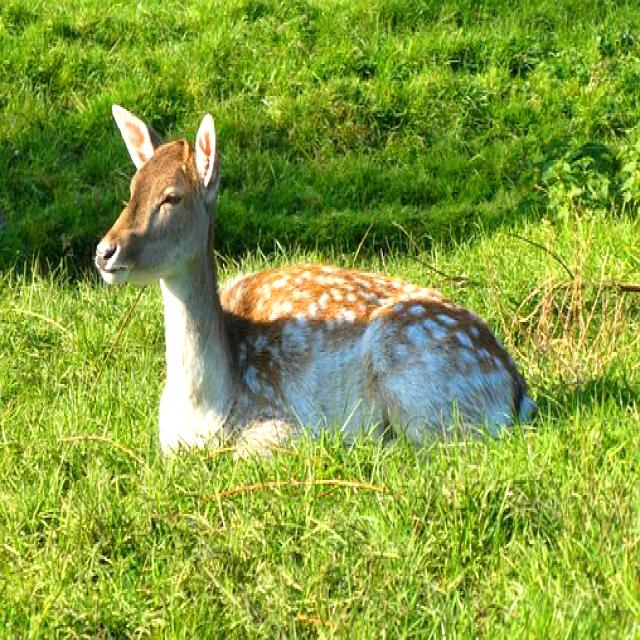deer: (91, 94, 534, 459)
